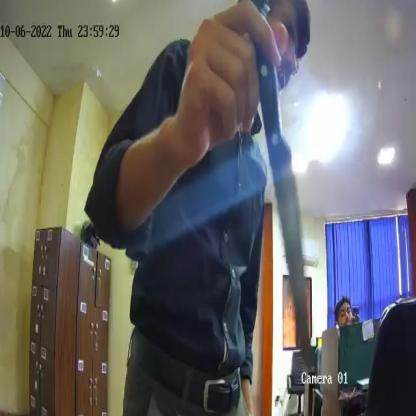Knife: (250, 2, 316, 370)
